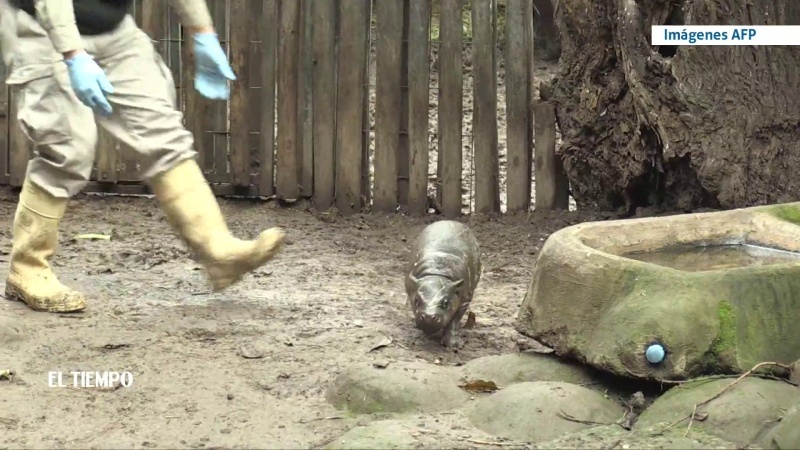hipopotamo: (396, 211, 497, 356)
